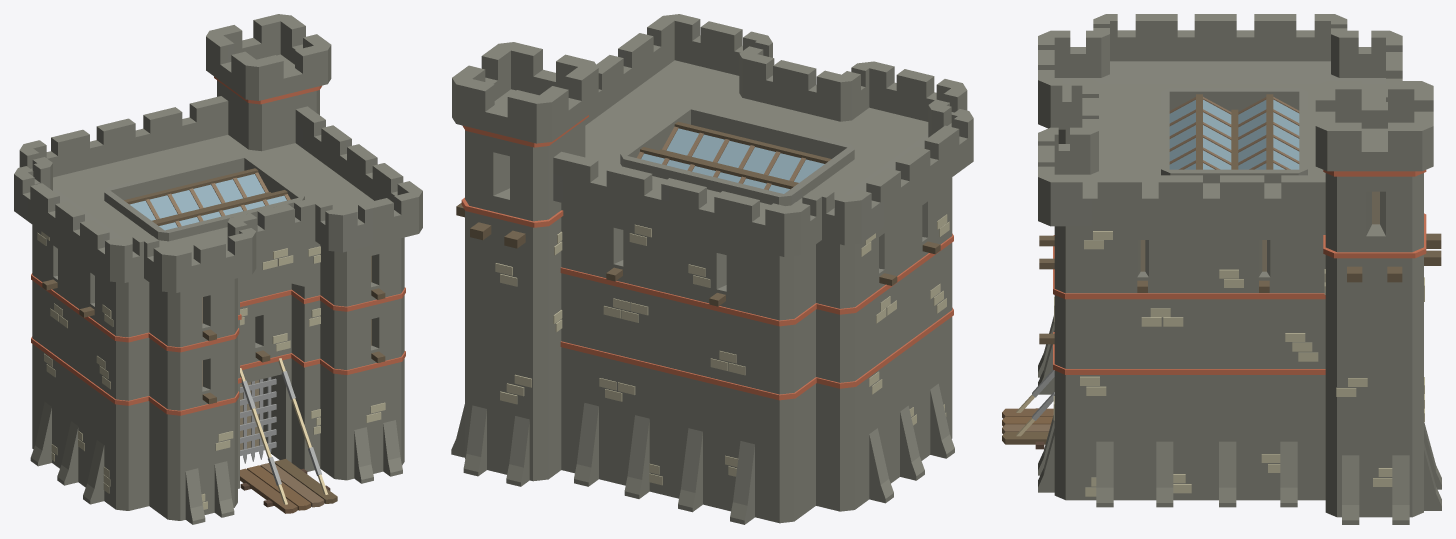
The model's file is Castle_1.fbx.
3 views of the same model, side by side, from view 1: azimuth 30°, elevation 25°; view 2: azimuth 150°, elevation 25°; view 3: azimuth 270°, elevation 25° (orthographic). The views are drawn at different scales.
Parts seen in each view (by area): view 1: Castle_1; view 2: Castle_1; view 3: Castle_1.
Part boxes in pixels (<box>): Castle_1: <box>14,14,422,524</box>; Castle_1: <box>451,14,973,524</box>; Castle_1: <box>1002,14,1441,524</box>.
Bounding box in the file's own units: 481 × 468 × 478.
1 material, 1 textured.
